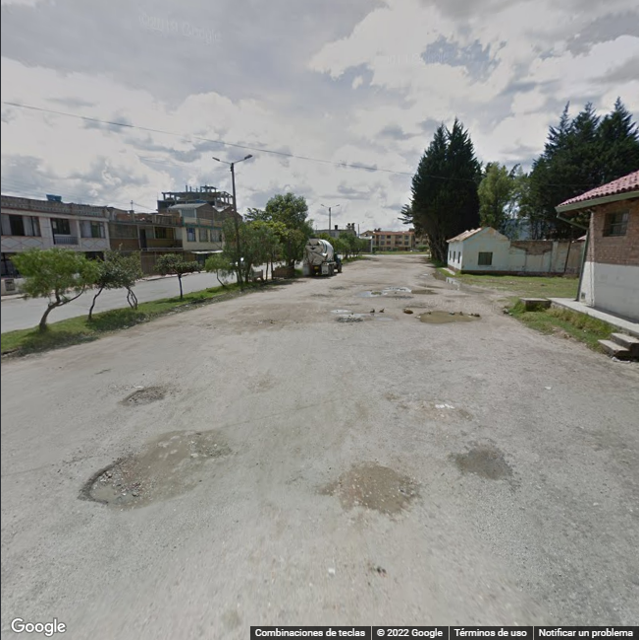D40: (89, 461, 136, 510), (358, 476, 416, 514), (110, 382, 167, 415)
